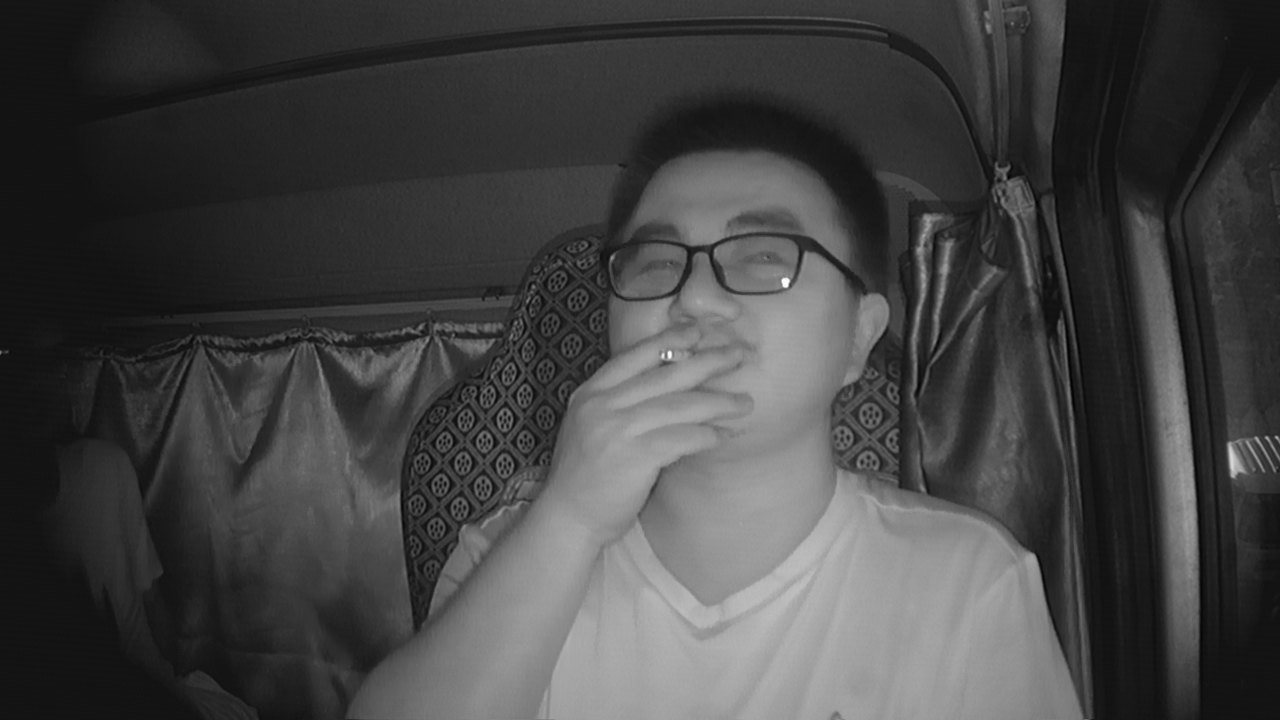hand: (601, 328, 739, 473)
